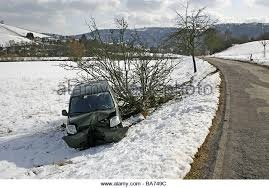Smashed: (71, 111, 117, 149)
